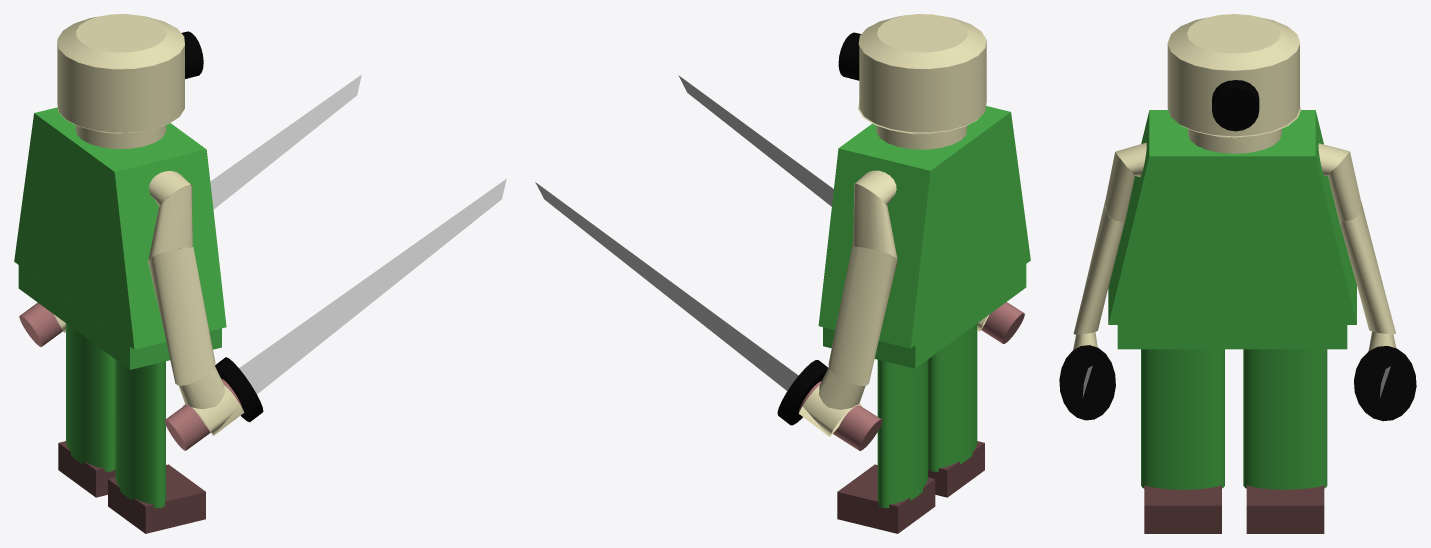
Rendered from gubbe.fbx.
3 renders of one model, left to right at view 1: azimuth 30°, elevation 25°; view 2: azimuth 150°, elevation 25°; view 3: azimuth 270°, elevation 25°, orthographic. The views are drawn at different scales.
Parts seen in each view (by area): view 1: agility_v:agility_v:agility_v:agility_v:pCube8, agility_v:agility_v:agility_v:agility_v:pCylinder20, agility_v:agility_v:agility_v:polySurface4, agility_v:agility_v:agility_v:agility_v:pCylinder6, agility_v:agility_v:polySurface3, agility_v:agility_v:polySurface1, agility_v:agility_v:agility_v:agility_v:pCylinder5, agility_v:agility_v:agility_v:polySurface1, agility_v:agility_v:agility_v:agility_v:pCube7, agility_v:agility_v:polySurface4, agility_v:agility_v:polySurface2, agility_v:agility_v:agility_v:agility_v:pCylinder3 (+1 smaller); view 2: agility_v:agility_v:agility_v:agility_v:pCube8, agility_v:agility_v:agility_v:agility_v:pCylinder19, agility_v:agility_v:agility_v:agility_v:pCylinder6, agility_v:agility_v:agility_v:polySurface1, agility_v:agility_v:polySurface1, agility_v:agility_v:polySurface3, agility_v:agility_v:agility_v:agility_v:pCylinder5, agility_v:agility_v:agility_v:agility_v:pCube7, agility_v:agility_v:polySurface2, agility_v:agility_v:agility_v:polySurface4, agility_v:agility_v:polySurface4, agility_v:agility_v:agility_v:agility_v:pCylinder3 (+1 smaller); view 3: agility_v:agility_v:agility_v:agility_v:pCube8, agility_v:agility_v:polySurface1, agility_v:agility_v:polySurface3, agility_v:agility_v:agility_v:agility_v:pCylinder6, agility_v:agility_v:agility_v:agility_v:pCylinder5, agility_v:agility_v:agility_v:agility_v:pCube7, agility_v:agility_v:agility_v:agility_v:pCylinder19, agility_v:agility_v:agility_v:agility_v:pCylinder20, agility_v:agility_v:agility_v:polySurface1, agility_v:agility_v:polySurface2, agility_v:agility_v:polySurface4, agility_v:agility_v:agility_v:polySurface4 (+2 smaller).
Part boxes in pixels (x1,y1,x2,y2): agility_v:agility_v:agility_v:agility_v:pCube8: (14,107,226,349); agility_v:agility_v:agility_v:agility_v:pCylinder20: (148,171,244,435); agility_v:agility_v:agility_v:polySurface4: (164,179,506,450); agility_v:agility_v:agility_v:agility_v:pCylinder6: (57,40,184,132); agility_v:agility_v:polySurface3: (115,360,165,508); agility_v:agility_v:polySurface1: (66,323,115,471); agility_v:agility_v:agility_v:agility_v:pCylinder5: (57,14,184,68); agility_v:agility_v:agility_v:polySurface1: (19,74,361,346); agility_v:agility_v:agility_v:agility_v:pCube7: (18,265,221,369); agility_v:agility_v:polySurface4: (108,464,205,533); agility_v:agility_v:polySurface2: (58,441,115,497); agility_v:agility_v:agility_v:agility_v:pCylinder3: (75,125,166,148); agility_v:agility_v:agility_v:agility_v:pCube8: (818,106,1030,348); agility_v:agility_v:agility_v:agility_v:pCylinder19: (799,170,897,436); agility_v:agility_v:agility_v:agility_v:pCylinder6: (859,34,986,132); agility_v:agility_v:agility_v:polySurface1: (535,182,882,450); agility_v:agility_v:polySurface1: (877,359,927,507); agility_v:agility_v:polySurface3: (928,323,977,471); agility_v:agility_v:agility_v:agility_v:pCylinder5: (858,14,986,68); agility_v:agility_v:agility_v:agility_v:pCube7: (823,264,1026,368); agility_v:agility_v:polySurface2: (837,464,935,533); agility_v:agility_v:agility_v:polySurface4: (678,75,1024,343); agility_v:agility_v:polySurface4: (928,441,984,497); agility_v:agility_v:agility_v:agility_v:pCylinder3: (876,126,967,149); agility_v:agility_v:agility_v:agility_v:pCube8: (1108,110,1356,324); agility_v:agility_v:polySurface1: (1243,349,1327,489); agility_v:agility_v:polySurface3: (1141,349,1224,489); agility_v:agility_v:agility_v:agility_v:pCylinder6: (1167,43,1299,136); agility_v:agility_v:agility_v:agility_v:pCylinder5: (1168,14,1300,70); agility_v:agility_v:agility_v:agility_v:pCube7: (1117,325,1347,349); agility_v:agility_v:agility_v:agility_v:pCylinder19: (1318,143,1396,351); agility_v:agility_v:agility_v:agility_v:pCylinder20: (1073,143,1146,350); agility_v:agility_v:agility_v:polySurface1: (1354,346,1416,421); agility_v:agility_v:polySurface2: (1246,485,1324,533); agility_v:agility_v:polySurface4: (1144,485,1221,533); agility_v:agility_v:agility_v:polySurface4: (1059,345,1115,420).
Bounding box in the file's own units: 3.82 × 4.57 × 3.09.
